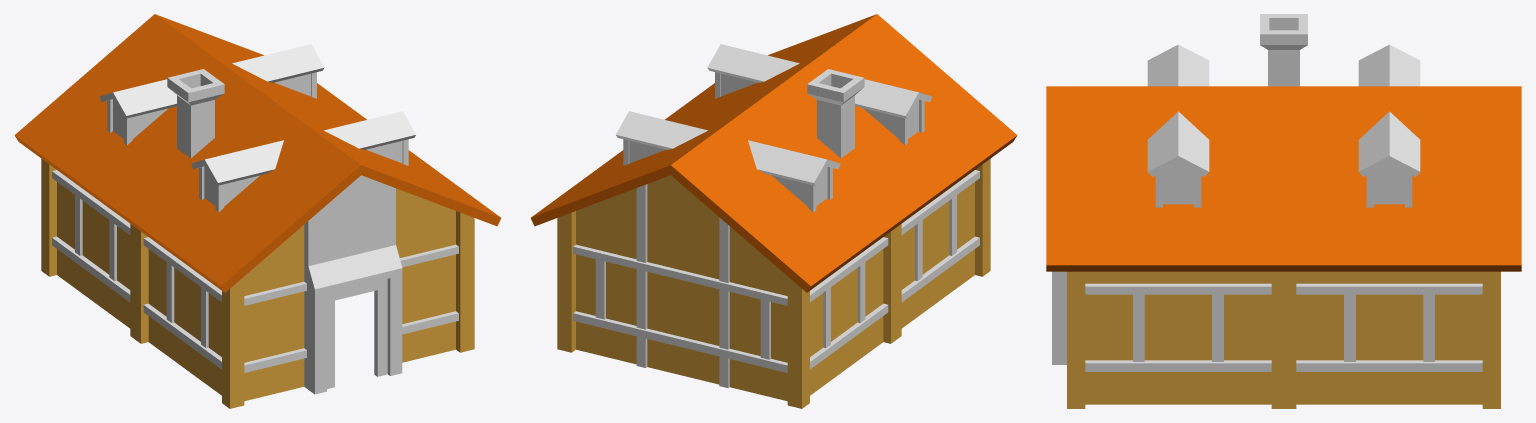
Rendered from Huis v1.fbx.
3 renders of one model, left to right at view 1: azimuth 30°, elevation 25°; view 2: azimuth 150°, elevation 25°; view 3: azimuth 270°, elevation 25°, orthographic. The views are drawn at different scales.
Visible parts, largest first — view 1: Huis v1; view 2: Huis v1; view 3: Huis v1.
Part boxes in pixels (<box>): Huis v1: <box>14,14,501,408</box>; Huis v1: <box>530,14,1017,408</box>; Huis v1: <box>1046,14,1521,408</box>.
Size of the model in its own units: 8.16 by 6.79 by 10.4.
